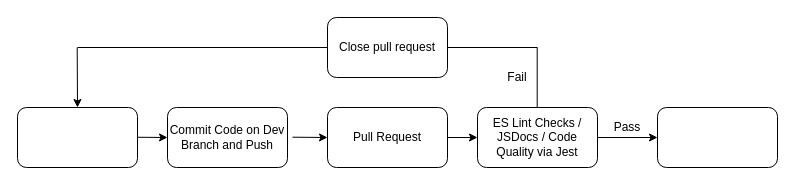
The diagram is 795 pixels wide and 185 high, and some of its shapes have lost their labels. The shapes that lost their labels are listed below. From the top down, each one's centre as x and y in pixels, then its label:
At point 77,137: "Code on local".
At point 717,137: "Merge to Main Branch".
